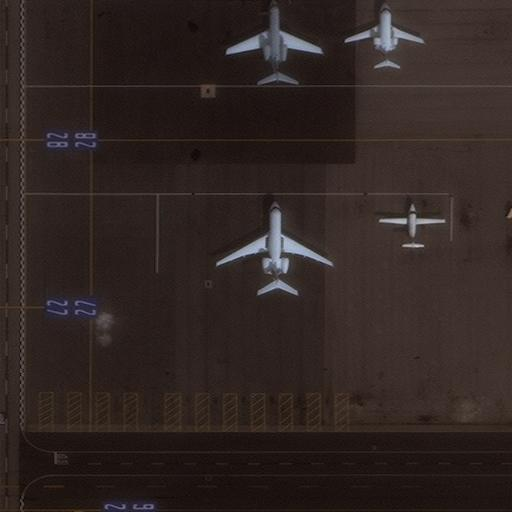Medium Civil Transport: (215, 200, 333, 290), (225, 0, 319, 81), (344, 2, 422, 67), (378, 203, 444, 248)
